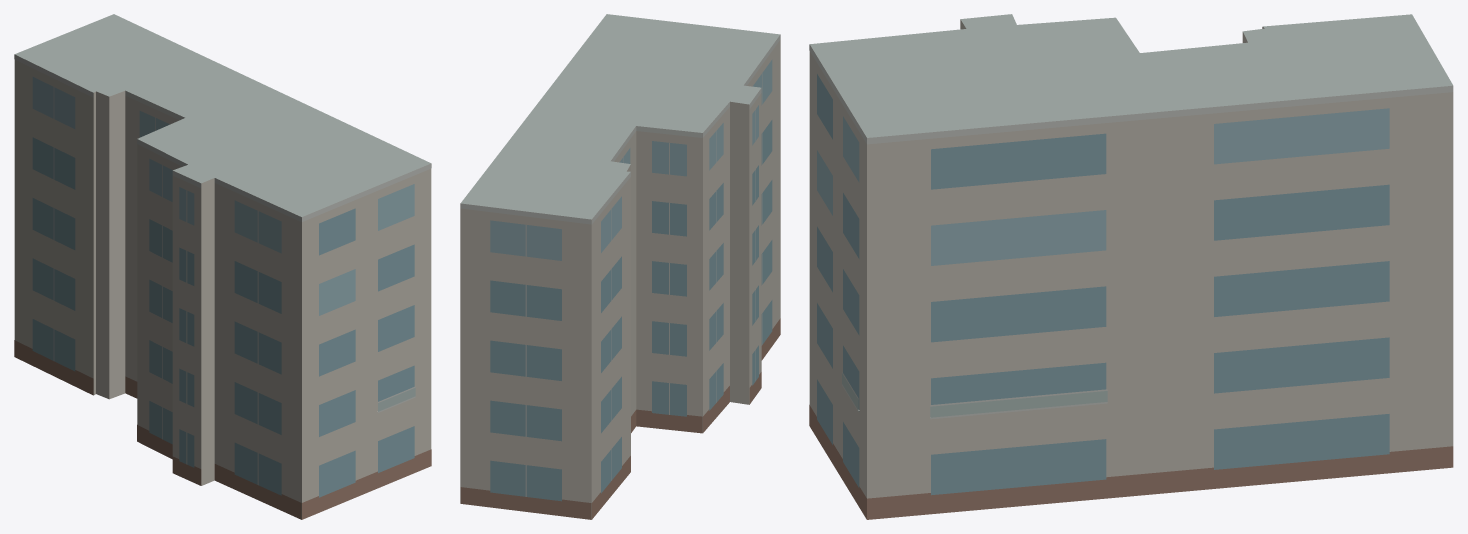
The model's file is survey-upis-32958915.glb.
3 views of the same model, side by side, from view 1: azimuth 30°, elevation 25°; view 2: azimuth 150°, elevation 25°; view 3: azimuth 270°, elevation 25° (orthographic). The views are drawn at different scales.
Parts seen in each view (by area): view 1: survey-upis-32958915.tmp; view 2: survey-upis-32958915.tmp; view 3: survey-upis-32958915.tmp.
Part boxes in pixels (box(x1,y1,x2,y2)): survey-upis-32958915.tmp: box(14, 14, 431, 519); survey-upis-32958915.tmp: box(460, 14, 780, 519); survey-upis-32958915.tmp: box(809, 14, 1453, 519).
Size of the model in its own units: 10.18 by 14.6 by 22.32.
